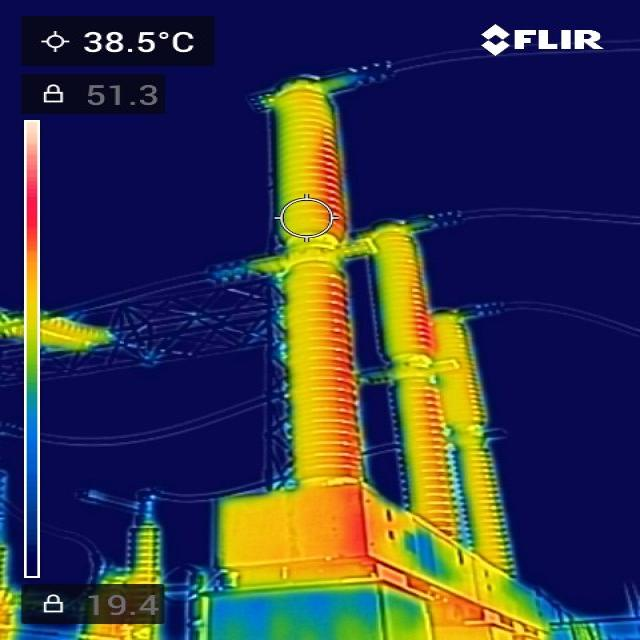Zona_Atenco: (329, 277, 380, 569), (319, 140, 344, 237)
